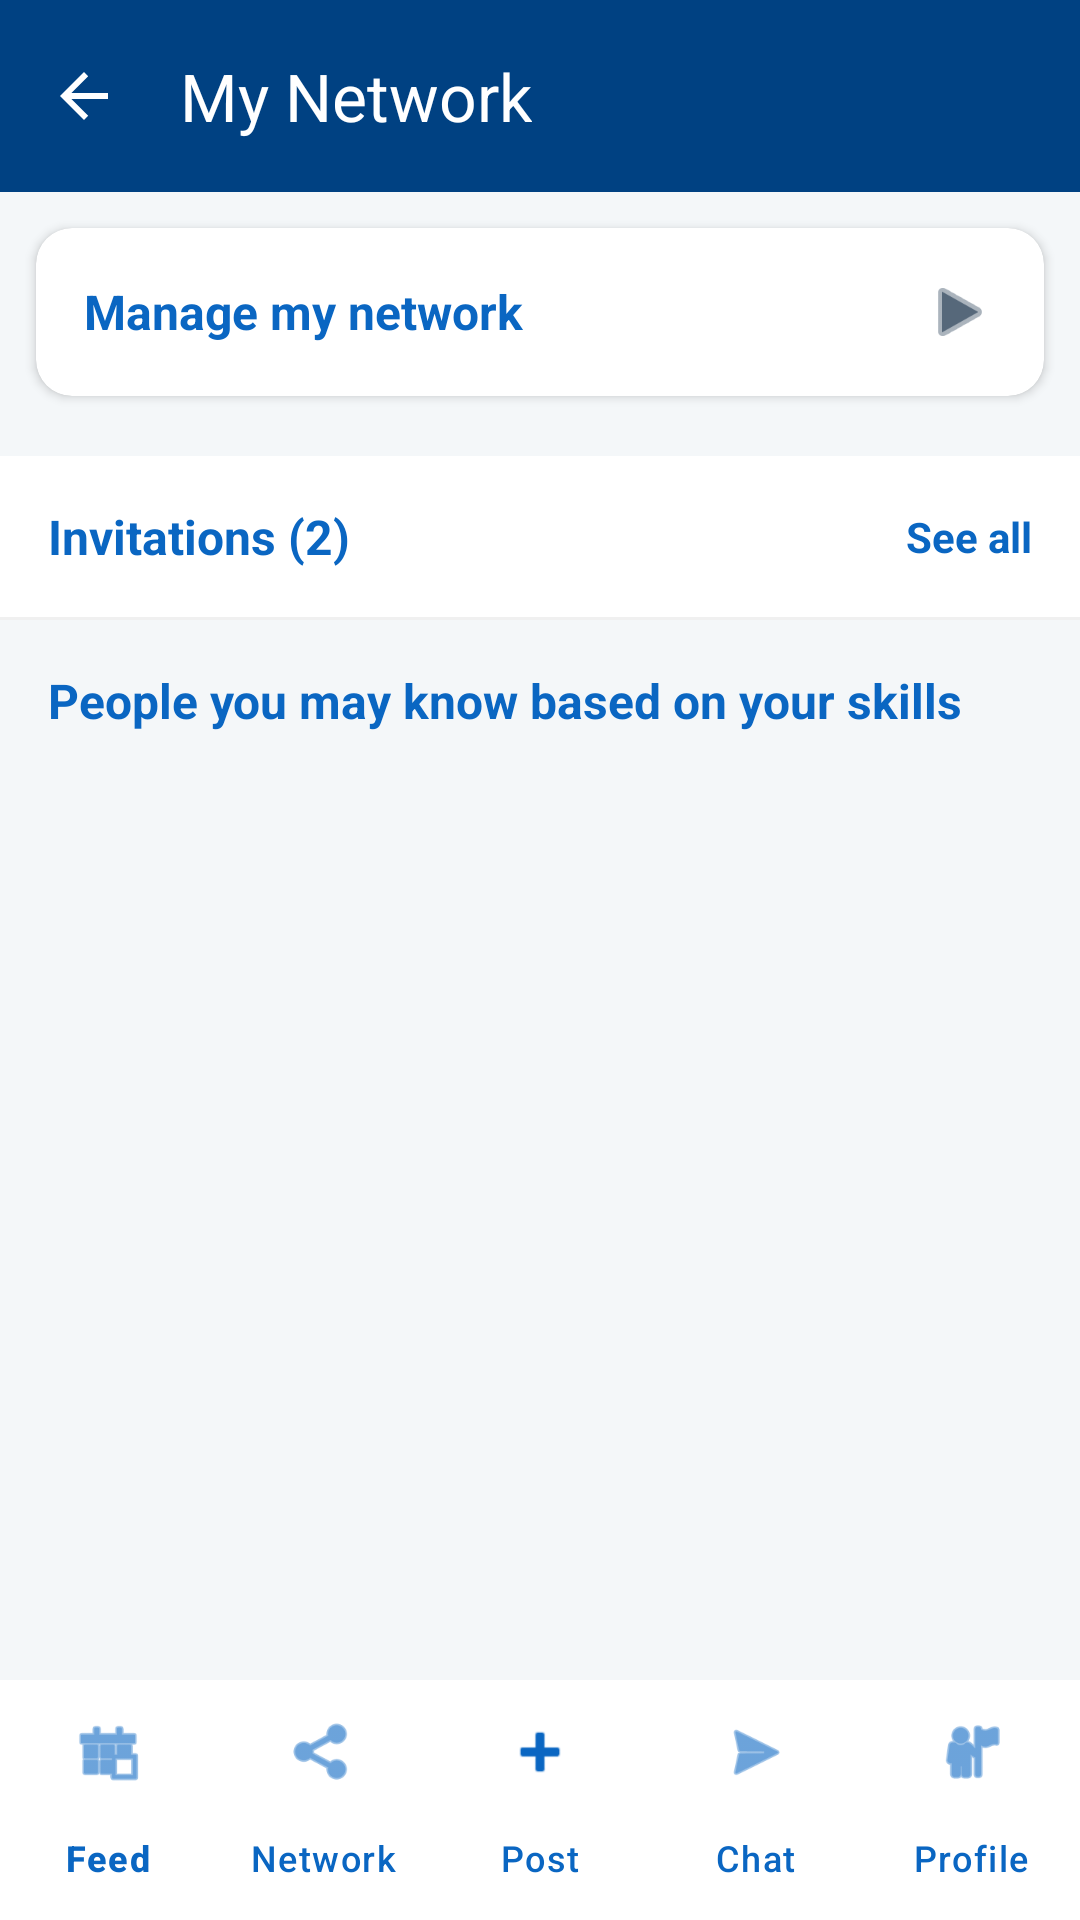

Icons on this 1080 x 1920 Android screen, each with its box as [x1, y1, x2, y2]:
play: [938, 288, 982, 336]
